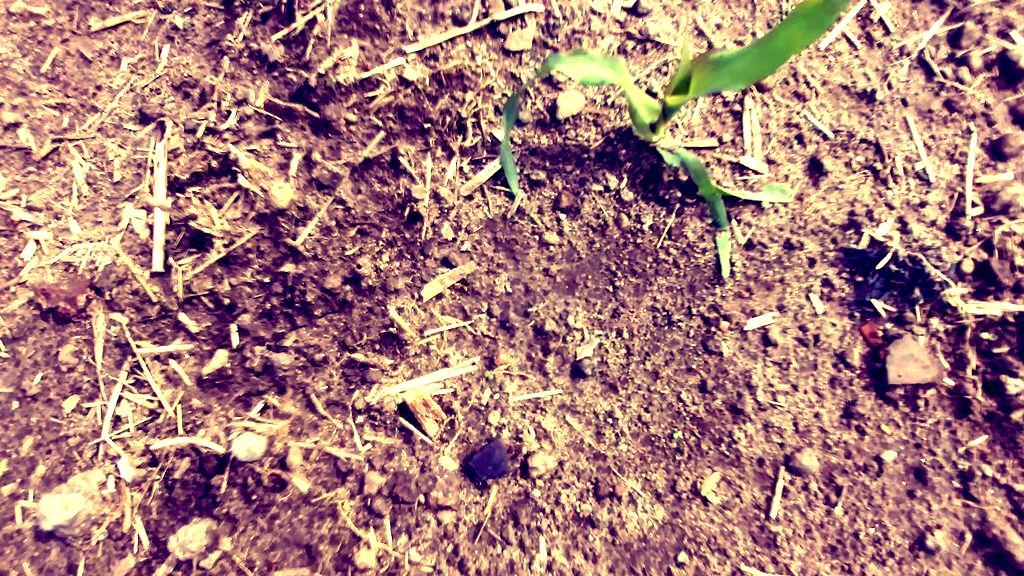BroWeed: (321, 73, 337, 93), (481, 368, 496, 382), (671, 428, 683, 439)
